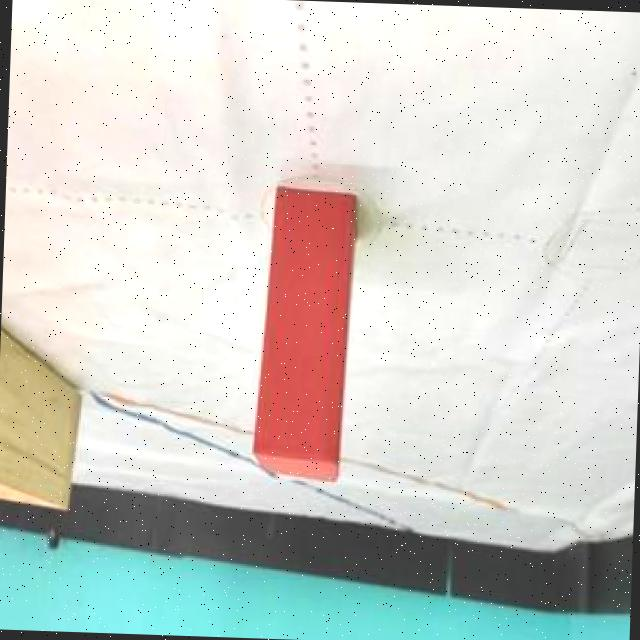redbox: (250, 182, 357, 485)
